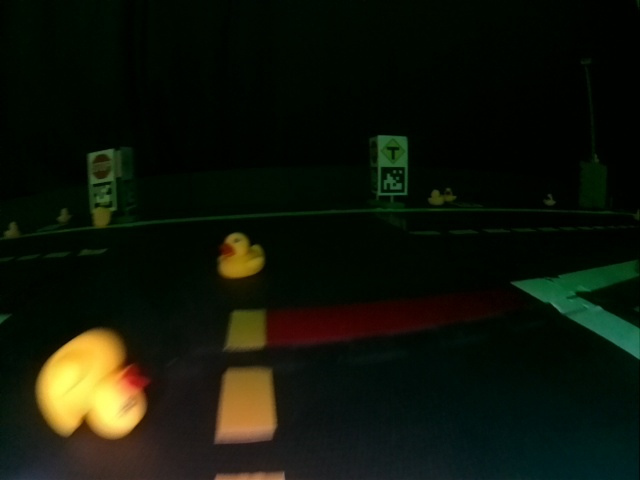Duckie: (37, 331, 143, 438), (218, 234, 266, 278), (92, 207, 111, 226), (3, 222, 20, 236), (429, 190, 442, 205), (445, 187, 455, 202), (58, 208, 67, 220), (544, 195, 554, 205)
Intersection sign: (382, 138, 407, 162)
QR code: (380, 168, 405, 193), (91, 183, 114, 209)
Stop sign: (91, 154, 113, 178)
